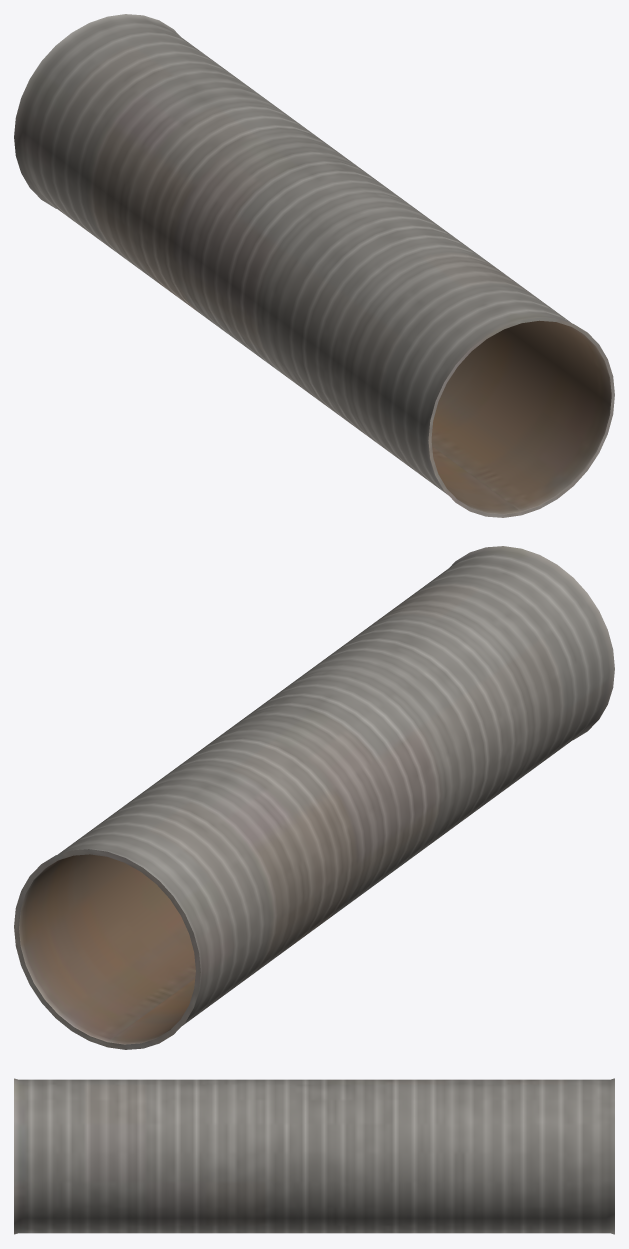
The model's file is duct_round.glb.
The picture shows the model from 3 angles, top to bottom: view 1: azimuth 30°, elevation 25°; view 2: azimuth 150°, elevation 25°; view 3: azimuth 270°, elevation 25°; orthographic projection. The views are drawn at different scales.
Parts seen in each view (by area): view 1: duct_round; view 2: duct_round; view 3: duct_round.
Part boxes in pixels (<box>): duct_round: <box>14,14,614,517</box>; duct_round: <box>14,546,614,1049</box>; duct_round: <box>14,1078,614,1234</box>.
Size of the model in its own units: 0.3704 by 0.3707 by 1.42.
1 material, 1 textured.
